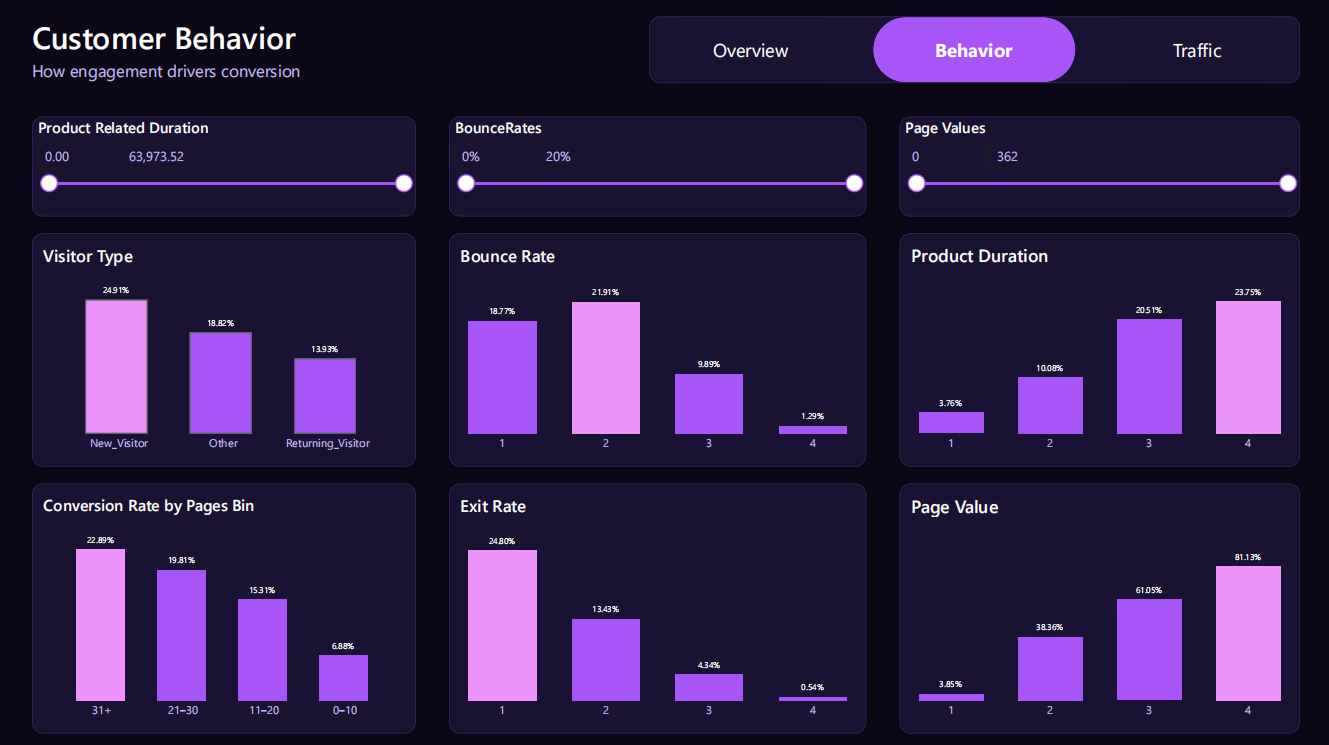

The page's visual inventory and layout, read from the dashboard file:
{"tool":"powerbi","page":{"name":"Behavior","canvas":[1920,1080],"ordinal":1},"visuals":[{"type":"pageNavigator","box":[936,24,936,96],"z":0},{"type":"slicer","fields":{"Values":["Shoppers.ProductRelated_Duration"]},"box":[48,168,552,144],"z":1000},{"type":"slicer","fields":{"Values":["Shoppers.BounceRates"]},"box":[648,168,600,144],"z":2000},{"type":"slicer","fields":{"Values":["Shoppers.PageValues"]},"box":[1296,168,576,144],"z":3000},{"type":"clusteredColumnChart","fields":{"Category":["Shoppers.Pages Bin"],"Y":["Shoppers.Conversion Rate"]},"box":[48,696,552,360],"z":4000},{"type":"clusteredColumnChart","title":"Page Value","fields":{"Category":["Shoppers.PageValue Bin Order"],"Y":["Shoppers.Conversion Rate"]},"box":[1296,696,576,360],"z":5000},{"type":"clusteredColumnChart","title":"Product Duration ","fields":{"Category":["Shoppers.Duration Bin Order"],"Y":["Shoppers.Conversion Rate"]},"box":[1296,336,576,336],"z":6000},{"type":"clusteredColumnChart","title":"Bounce Rate","fields":{"Category":["Shoppers.Bounce Bin Order"],"Y":["Shoppers.Conversion Rate"]},"box":[648,336,600,336],"z":7000},{"type":"clusteredColumnChart","title":"Exit Rate","fields":{"Category":["Shoppers.Exit Bin Order"],"Y":["Shoppers.Conversion Rate"]},"box":[648,696,600,360],"z":8000},{"type":"clusteredColumnChart","title":"Visitor Type","fields":{"Category":["Shoppers.VisitorType"],"Y":["Shoppers.Conversion Rate"]},"box":[48,336,552,336],"z":9000},{"type":"textbox","title":"Customer Behavior","box":[48,24,700,100],"z":10000}]}

Visuals, with their boxes in screenshot pixels (x1, y1, x2, y2), scaled from the page's 1920x1080 canvas onto the 1329x745 screenshot:
pageNavigator: {"left": 648, "top": 17, "right": 1296, "bottom": 83}
slicer - Shoppers.ProductRelated_Duration: {"left": 33, "top": 116, "right": 415, "bottom": 215}
slicer - Shoppers.BounceRates: {"left": 449, "top": 116, "right": 864, "bottom": 215}
slicer - Shoppers.PageValues: {"left": 897, "top": 116, "right": 1296, "bottom": 215}
clusteredColumnChart - Shoppers.Pages Bin x Shoppers.Conversion Rate: {"left": 33, "top": 480, "right": 415, "bottom": 728}
"Page Value" clusteredColumnChart: {"left": 897, "top": 480, "right": 1296, "bottom": 728}
"Product Duration " clusteredColumnChart: {"left": 897, "top": 232, "right": 1296, "bottom": 464}
"Bounce Rate" clusteredColumnChart: {"left": 449, "top": 232, "right": 864, "bottom": 464}
"Exit Rate" clusteredColumnChart: {"left": 449, "top": 480, "right": 864, "bottom": 728}
"Visitor Type" clusteredColumnChart: {"left": 33, "top": 232, "right": 415, "bottom": 464}
"Customer Behavior" textbox: {"left": 33, "top": 17, "right": 518, "bottom": 86}
